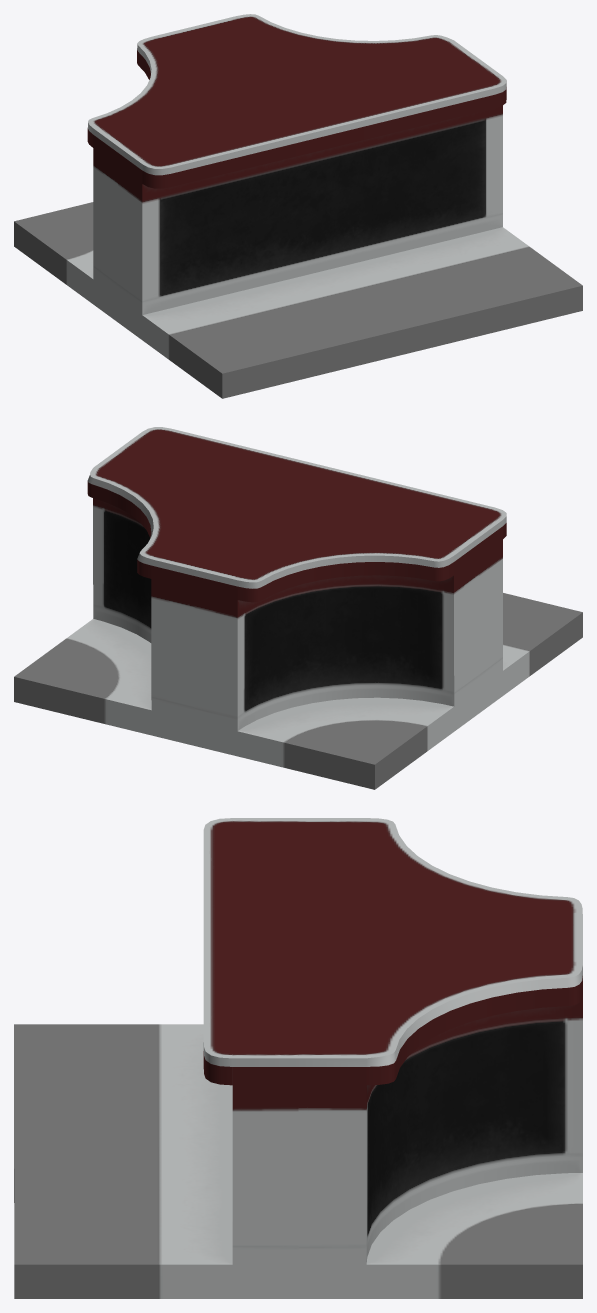
Rendered from Room_Floor_TType_A_C.FBX.
The picture shows the model from 3 angles, top to bottom: view 1: azimuth 30°, elevation 25°; view 2: azimuth 150°, elevation 25°; view 3: azimuth 270°, elevation 25°; orthographic projection. The views are drawn at different scales.
Visible parts, largest first — view 1: Room_Floor_TType_A_C; view 2: Room_Floor_TType_A_C; view 3: Room_Floor_TType_A_C.
Boxes of the visible parts, x1,y1,x2,y2 form: Room_Floor_TType_A_C: [14, 14, 582, 398]; Room_Floor_TType_A_C: [14, 427, 582, 789]; Room_Floor_TType_A_C: [14, 818, 582, 1298].
Size of the model in its own units: 300 by 140 by 300.
Materials: 1 (1 with a texture image).
